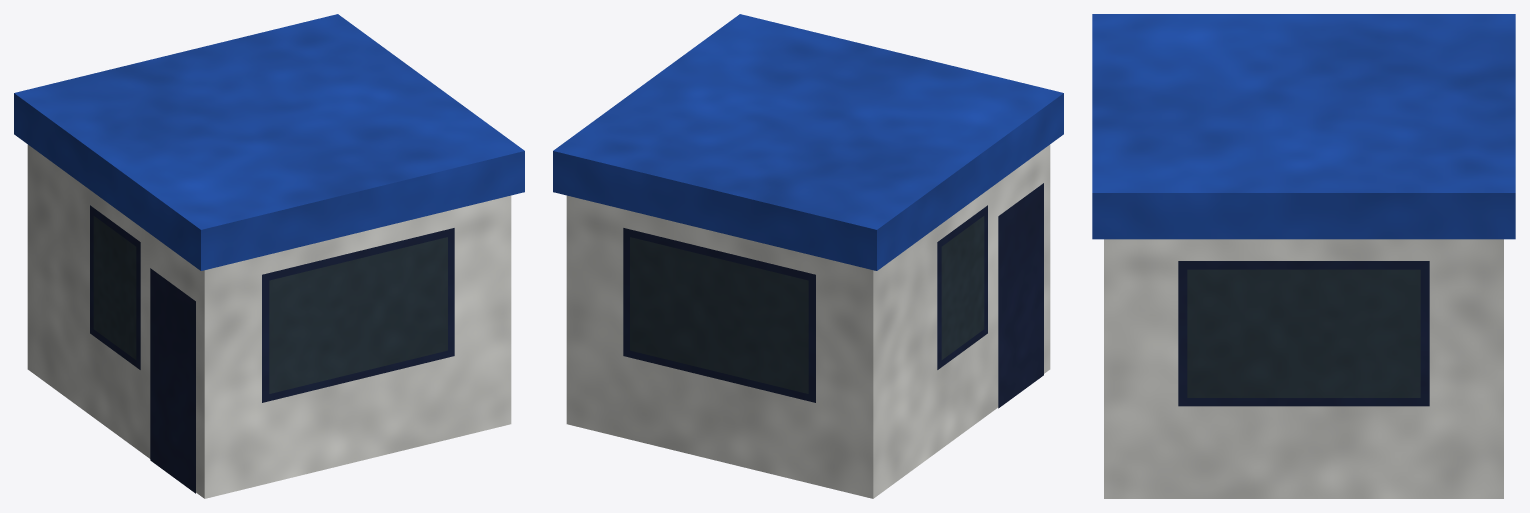
File: SM_MoloItalia_InfoPoint_Blu_LOD2.fbx
The picture shows the model from 3 angles, left to right: view 1: azimuth 30°, elevation 25°; view 2: azimuth 150°, elevation 25°; view 3: azimuth 270°, elevation 25°; orthographic projection. The views are drawn at different scales.
Visible parts, largest first — view 1: SM_MoloItalia_InfoPoint_Blu_LOD2; view 2: SM_MoloItalia_InfoPoint_Blu_LOD2; view 3: SM_MoloItalia_InfoPoint_Blu_LOD2.
Boxes of the visible parts, x1,y1,x2,y2 form: SM_MoloItalia_InfoPoint_Blu_LOD2: [14, 14, 524, 498]; SM_MoloItalia_InfoPoint_Blu_LOD2: [553, 14, 1063, 498]; SM_MoloItalia_InfoPoint_Blu_LOD2: [1092, 14, 1515, 498].
Size of the model in its own units: 370 by 370 by 300.
1 material, 1 textured.
